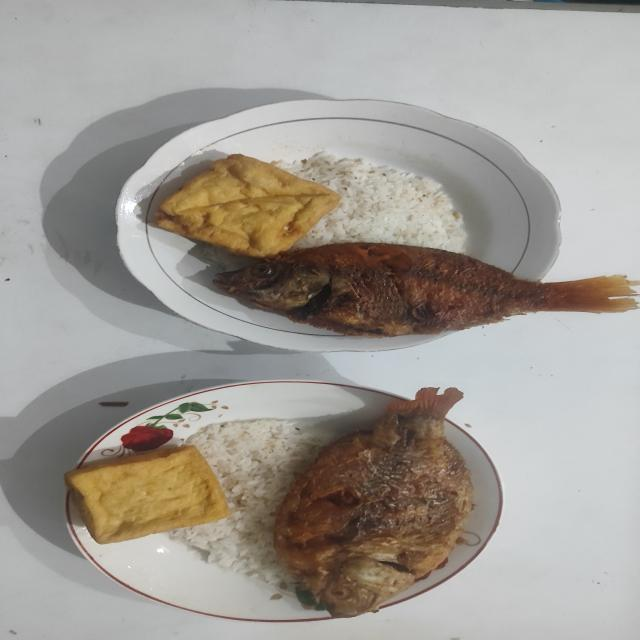ikan_mujair: (274, 388, 473, 617), (214, 242, 636, 338)
nasi_putih: (169, 418, 334, 590), (280, 152, 467, 254)
tahu_goreng: (156, 154, 340, 257), (66, 446, 231, 544)
